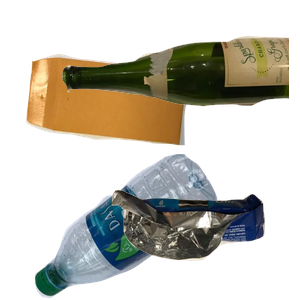glass: (60, 34, 300, 133)
paper: (23, 51, 206, 189)
plastic: (32, 154, 242, 300)
trash: (109, 187, 300, 300)
